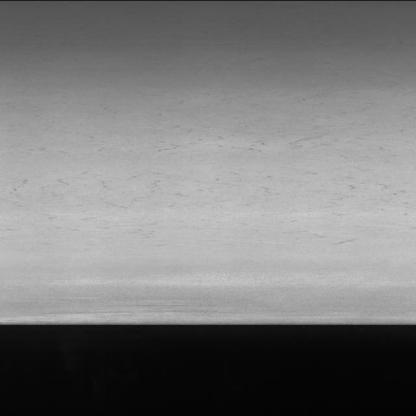silk_spot: (15, 95, 407, 250)
